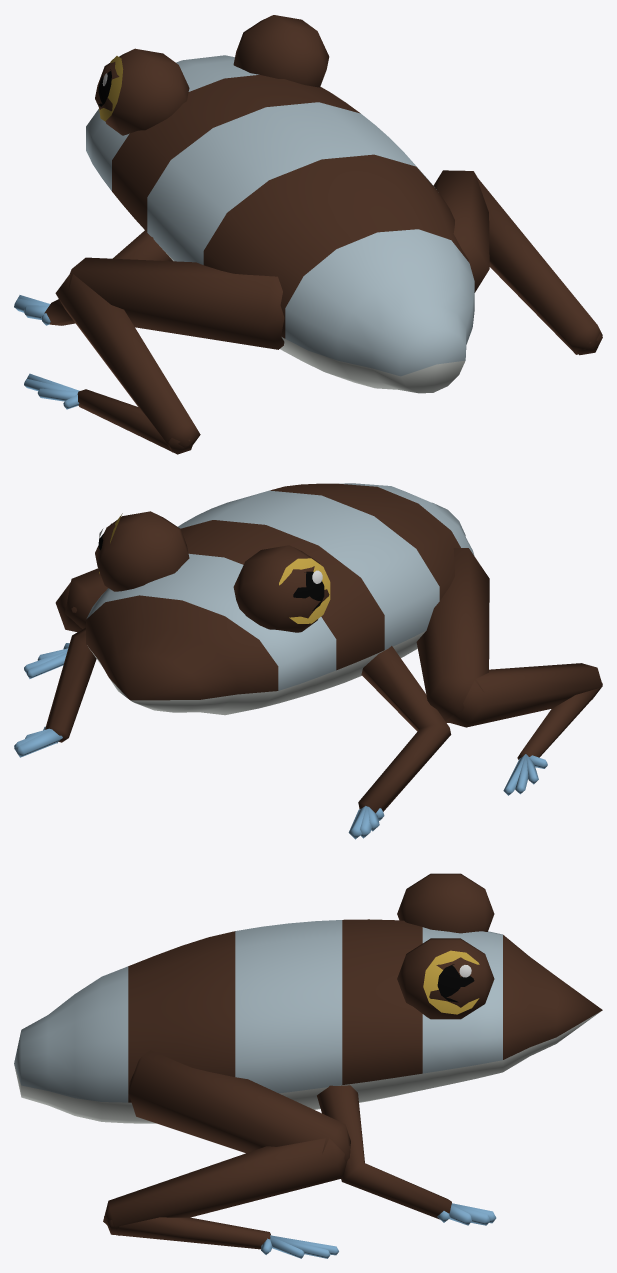
Rendered from milk_frog.glb.
3 views of the same model, one above another, from view 1: azimuth 30°, elevation 25°; view 2: azimuth 150°, elevation 25°; view 3: azimuth 270°, elevation 25° (orthographic). The views are drawn at different scales.
Visible parts, largest first — view 1: milk_frog; view 2: milk_frog; view 3: milk_frog.
Part boxes in pixels (<box>): milk_frog: <box>14,15,602,454</box>; milk_frog: <box>14,483,602,839</box>; milk_frog: <box>14,873,602,1258</box>.
Size of the model in its own units: 1.51 by 0.7131 by 1.6.
